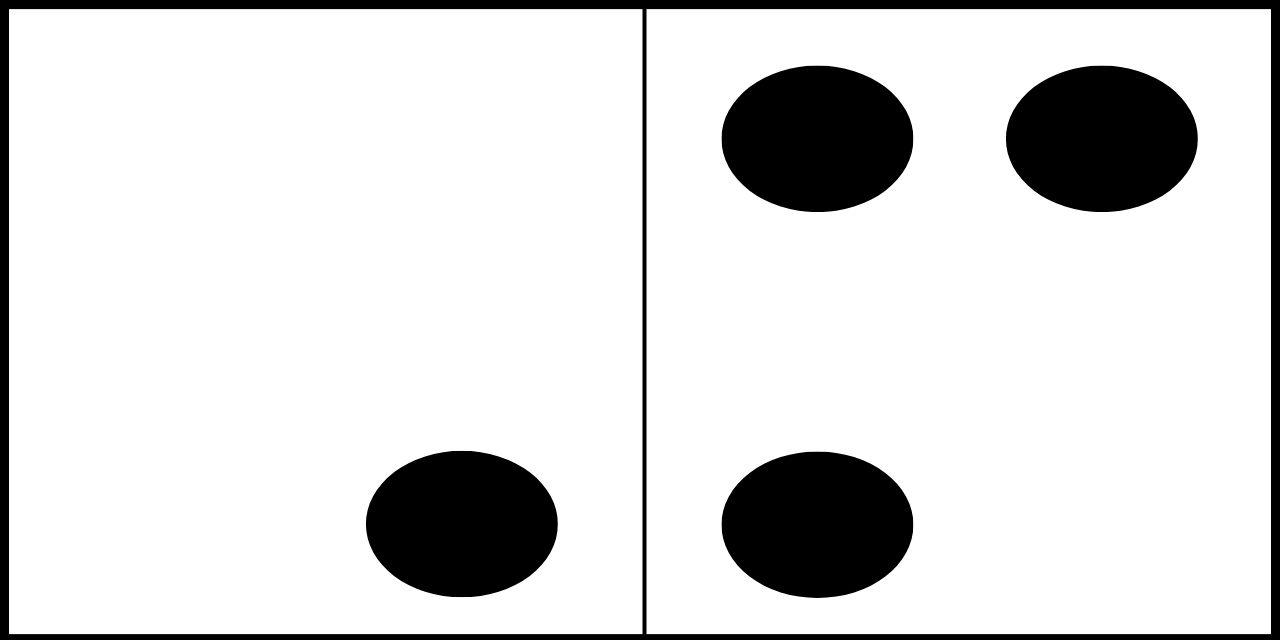capital_sign: (94, 62, 560, 598)
letter_M: (719, 64, 1201, 601)
